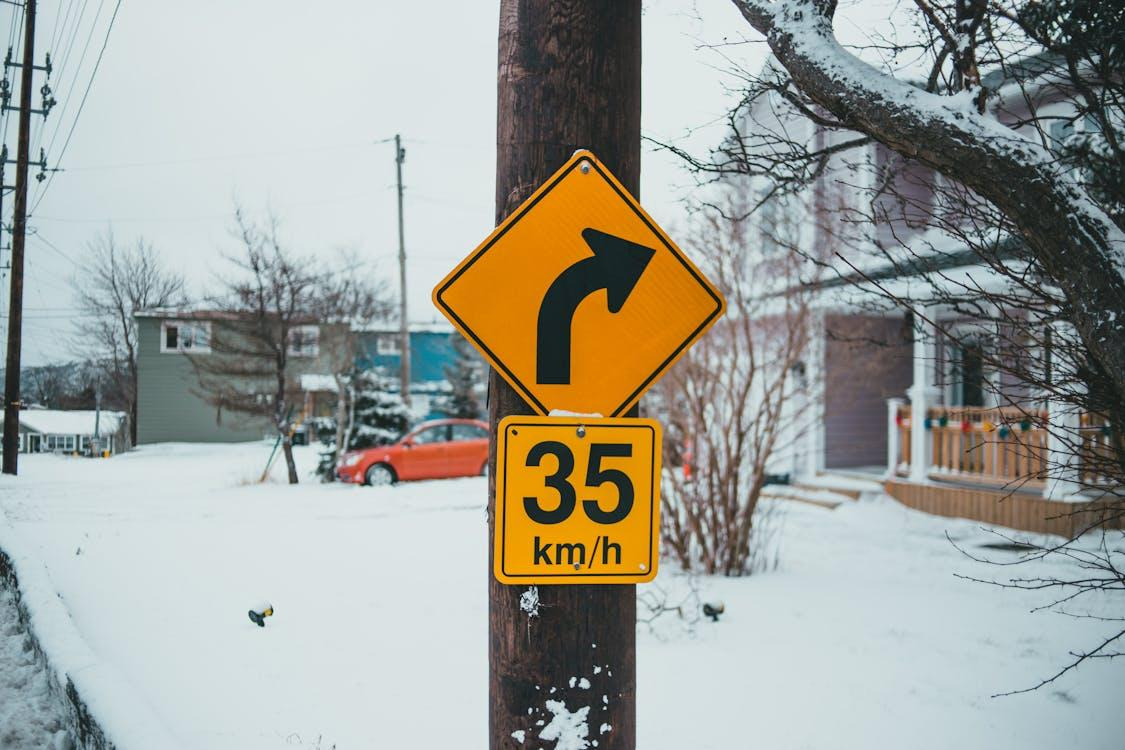car: (335, 408, 512, 495)
traffic sign: (387, 139, 726, 641)
